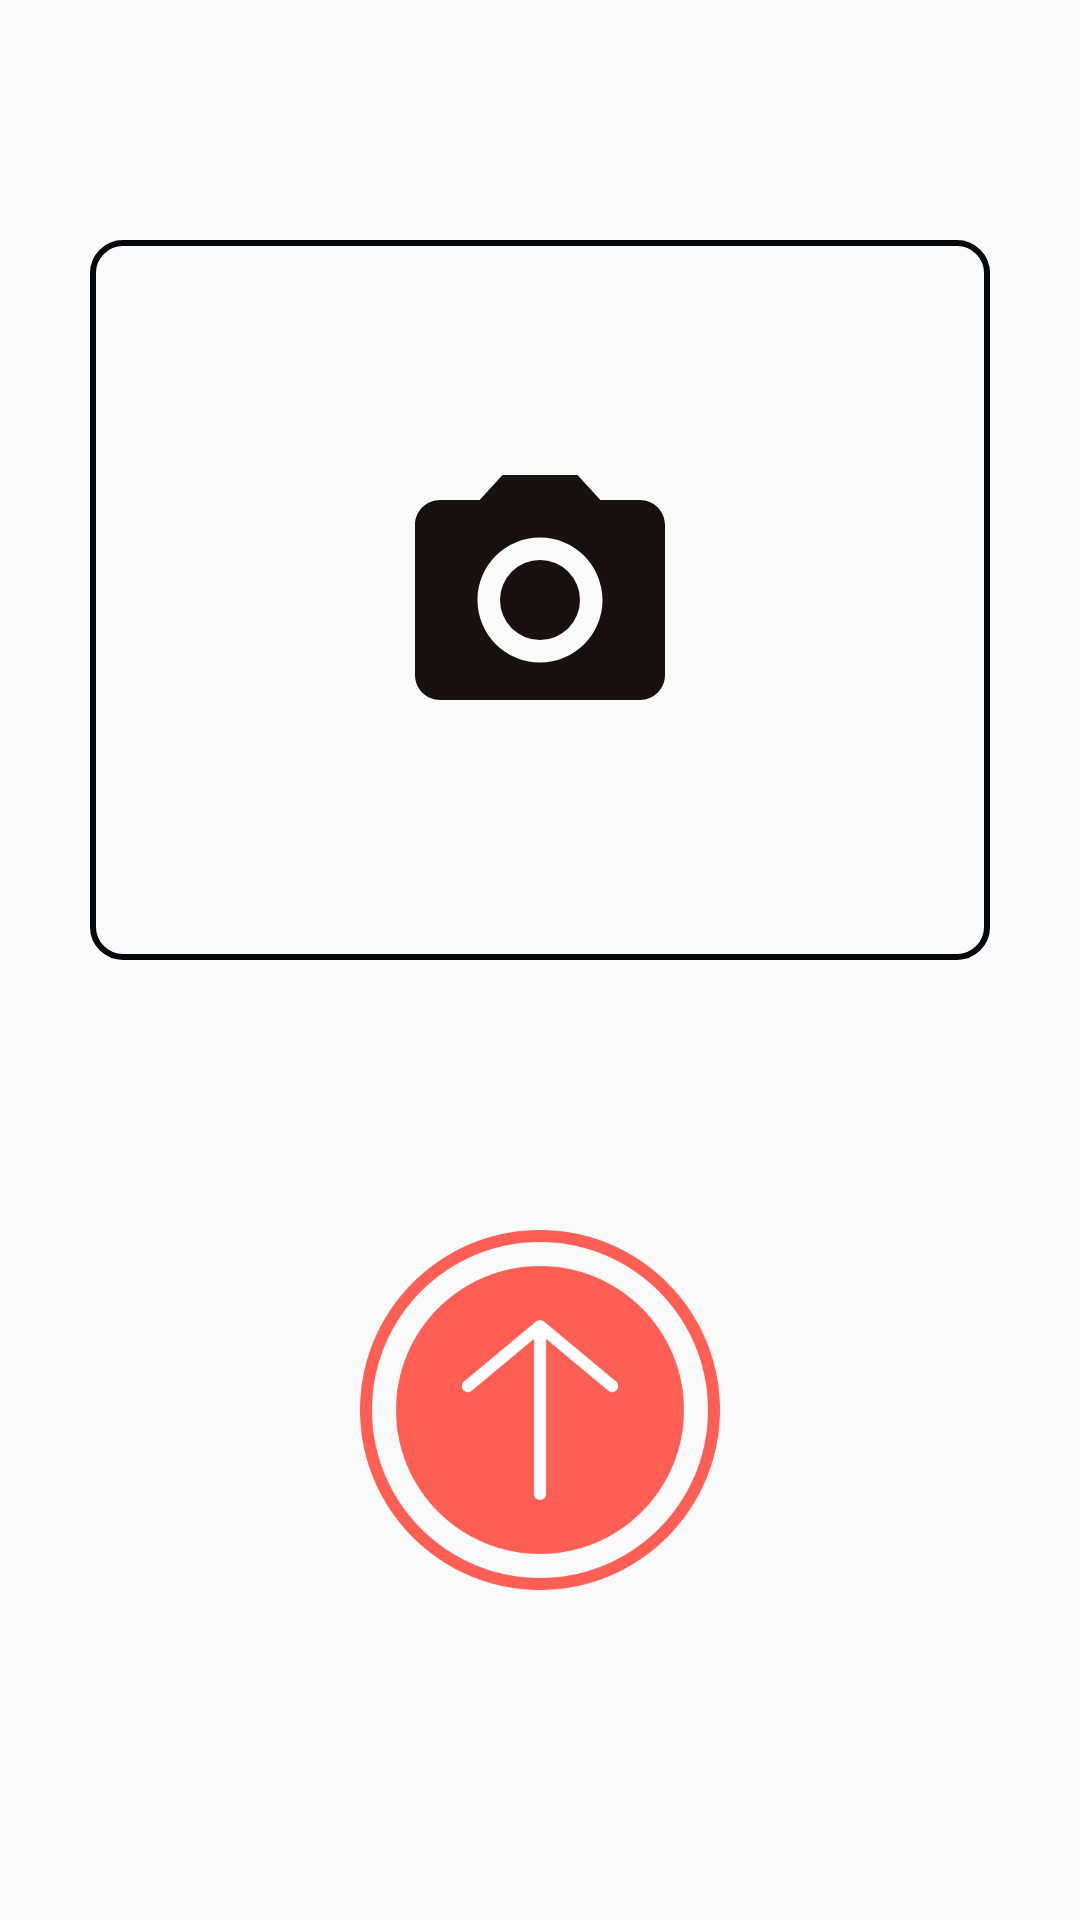

Screen size 1080w x 1920h. Icon name, then its center in pixels as (x,y):
photo camera: (540,587)
